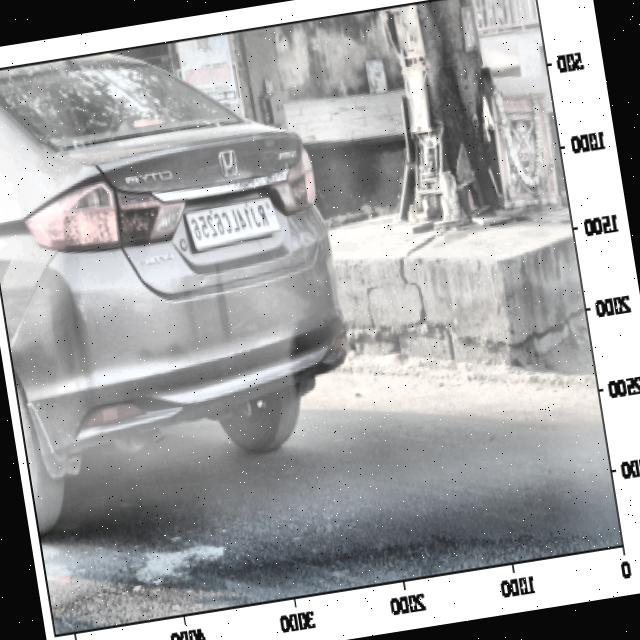license_plate: (186, 196, 277, 248)
